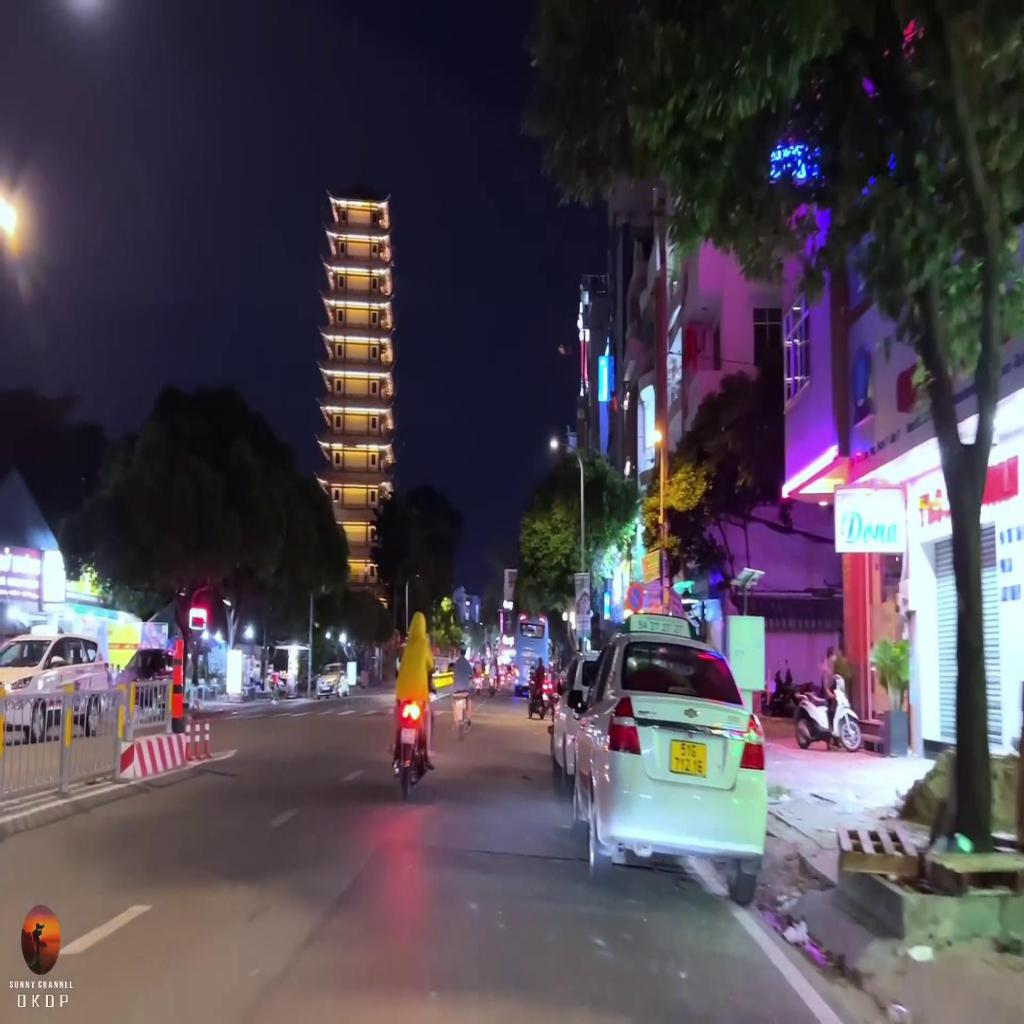cam_do_xe: (626, 581, 644, 613)
